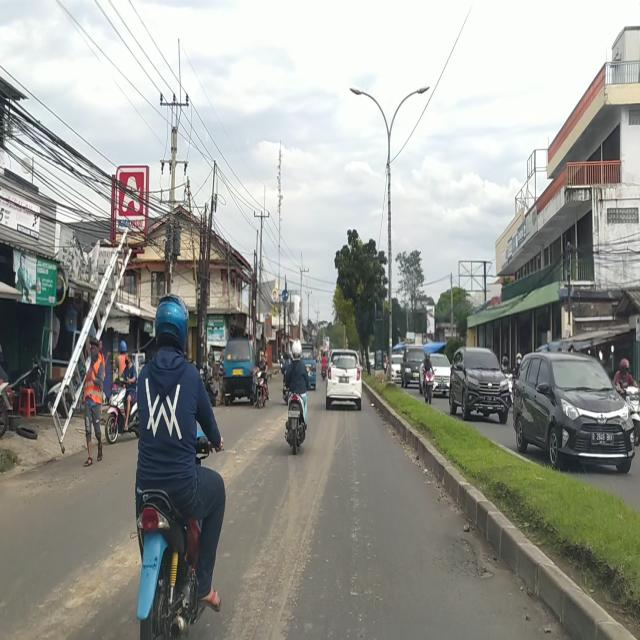Drain Hole: (433, 536, 492, 586)
